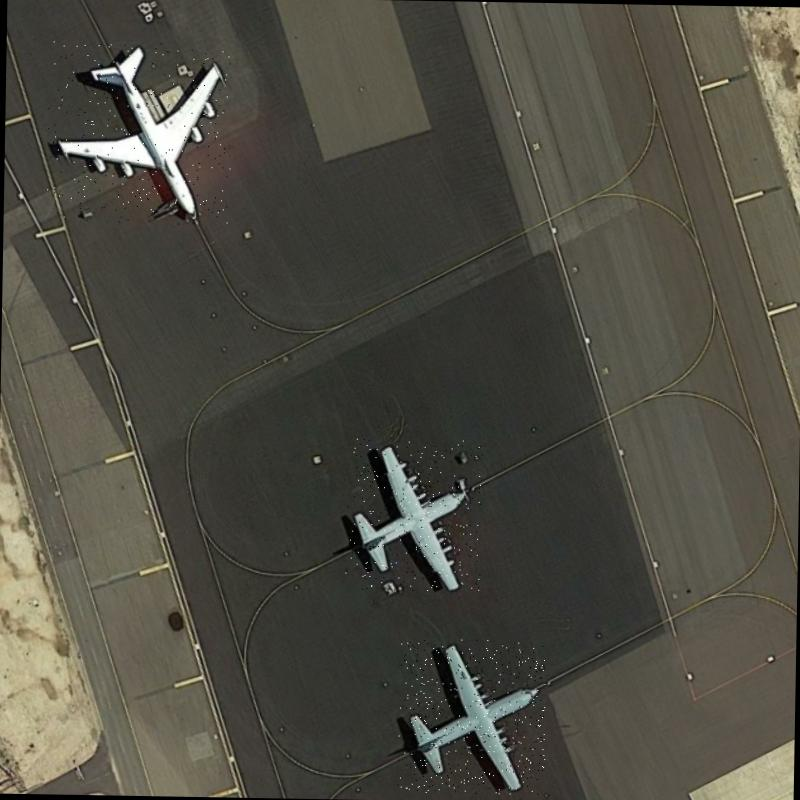A11: (46, 40, 232, 225)
A2: (397, 638, 547, 795), (344, 439, 482, 592)
